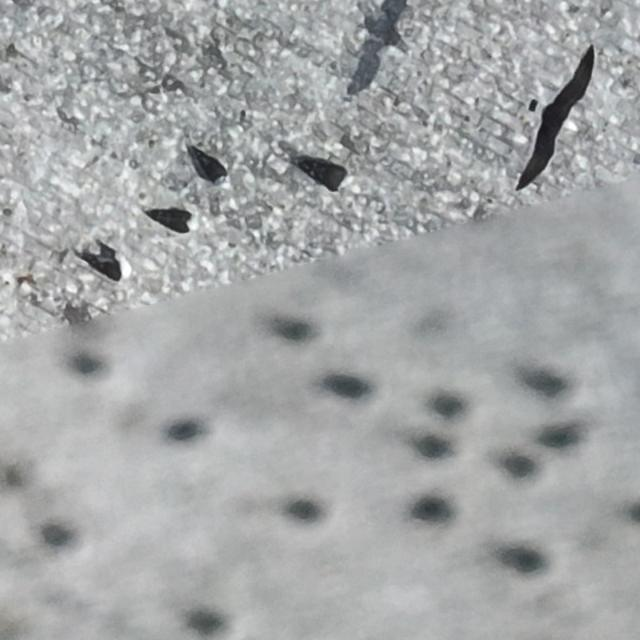F: (521, 58, 601, 189)
umineko: (304, 163, 348, 188), (193, 154, 226, 182), (151, 212, 192, 232), (90, 256, 122, 280)
